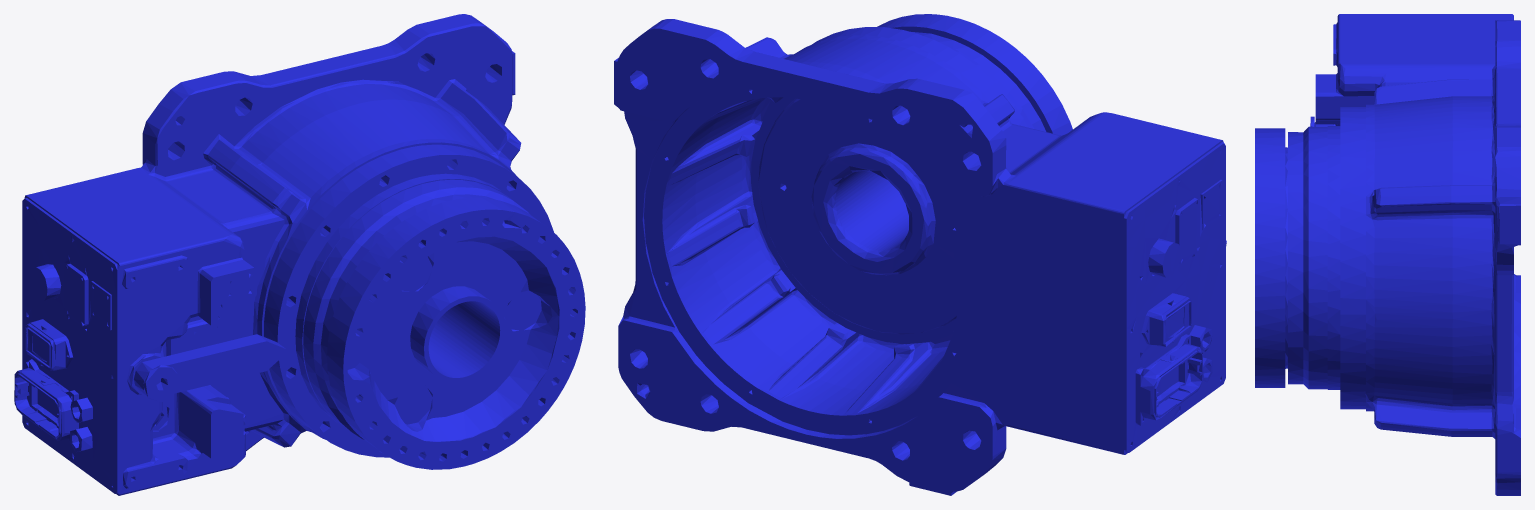
The model's file is BaseLink.glb.
3 views of the same model, side by side, from view 1: azimuth 30°, elevation 25°; view 2: azimuth 150°, elevation 25°; view 3: azimuth 270°, elevation 25° (orthographic). The views are drawn at different scales.
Parts seen in each view (by area): view 1: /BaseLink/BaseLink-mesh/0; view 2: /BaseLink/BaseLink-mesh/0; view 3: /BaseLink/BaseLink-mesh/0.
Boxes of the visible parts, box(x1,y1,x2,y2) form: /BaseLink/BaseLink-mesh/0: box(14, 14, 585, 495); /BaseLink/BaseLink-mesh/0: box(614, 14, 1226, 495); /BaseLink/BaseLink-mesh/0: box(1255, 14, 1520, 495).
Size of the model in its own units: 0.6338 by 0.455 by 0.312.
